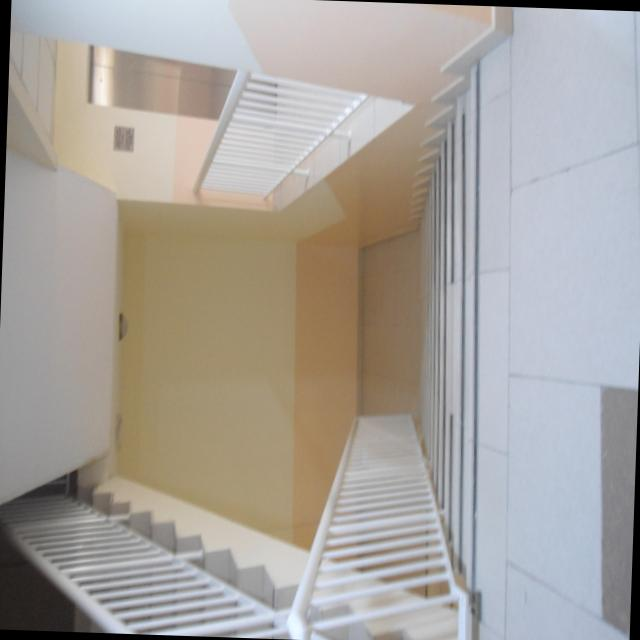lift: (88, 45, 235, 120)
path: (472, 7, 640, 640), (359, 230, 420, 415)
railing: (0, 414, 470, 640), (197, 70, 368, 196), (432, 309, 433, 311)
